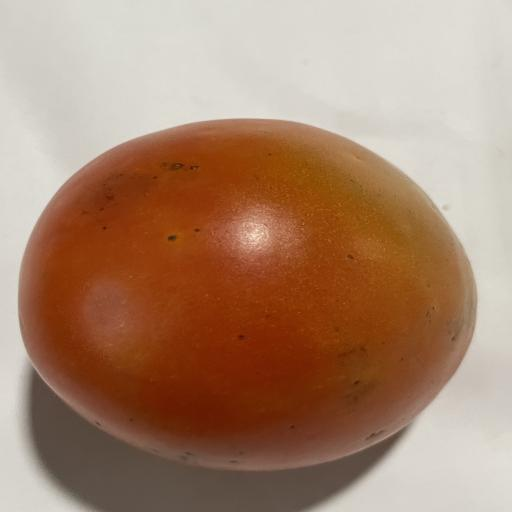ripe: (19, 119, 475, 470)
